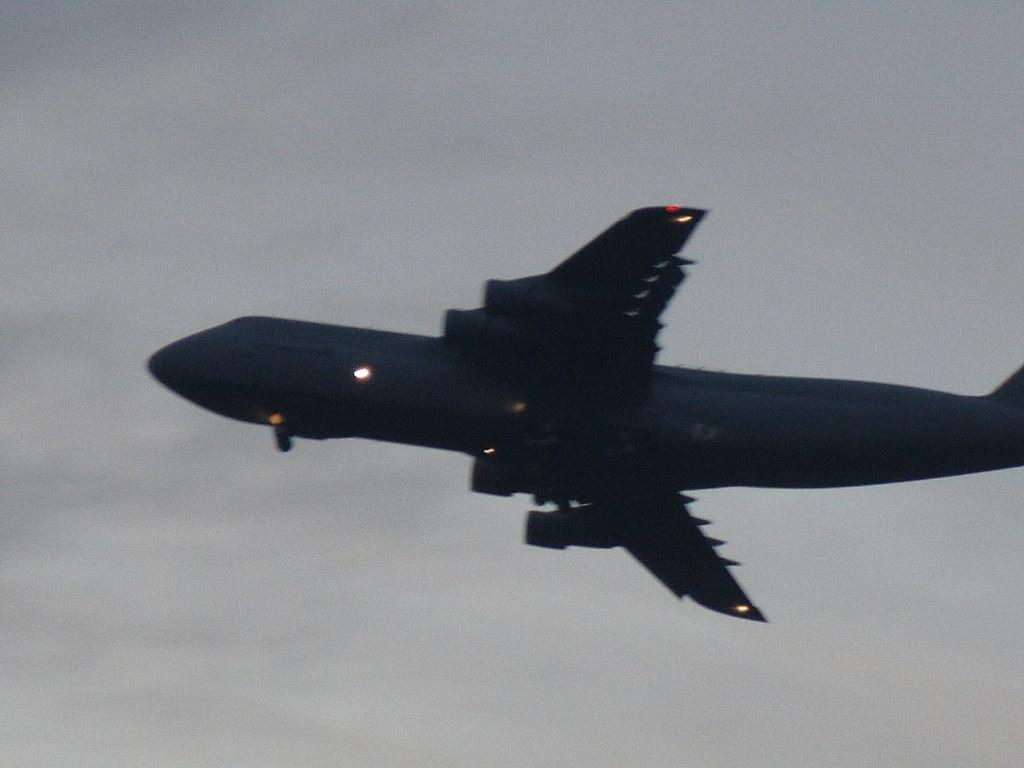plane: (145, 203, 1022, 624)
